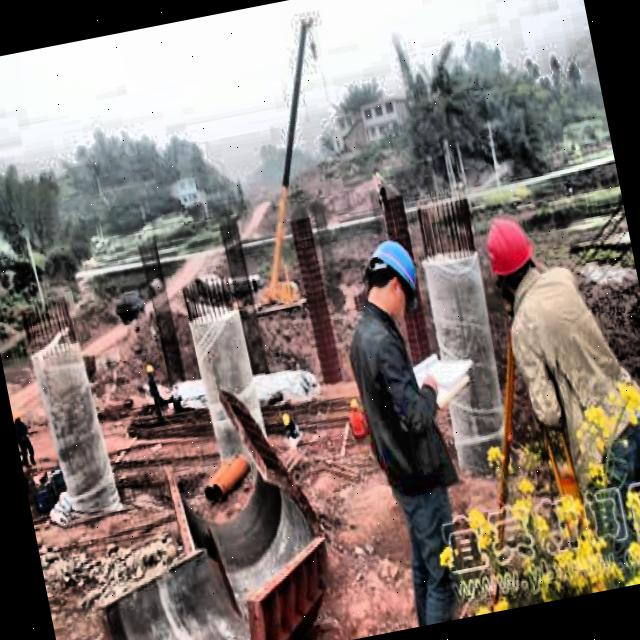helmet: (356, 232, 429, 330), (475, 208, 546, 305)
